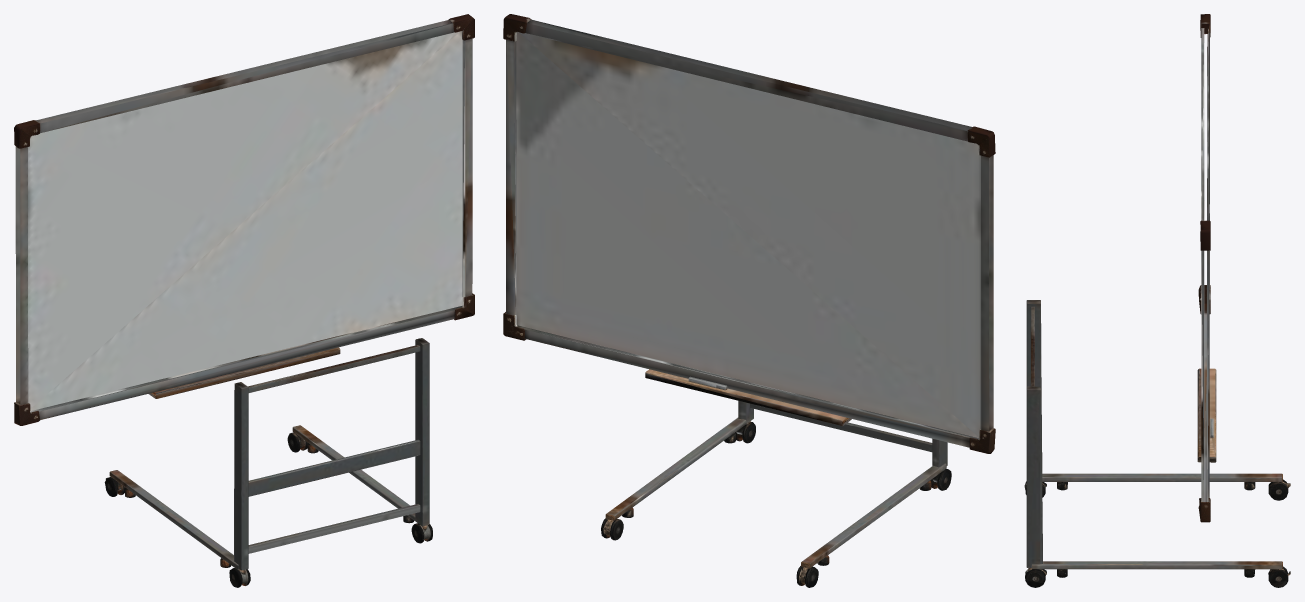
The model's file is office-whiteboard.glb.
The picture shows the model from 3 angles, left to right: view 1: azimuth 30°, elevation 25°; view 2: azimuth 150°, elevation 25°; view 3: azimuth 270°, elevation 25°; orthographic projection. The views are drawn at different scales.
Visible parts, largest first — view 1: whiteboard; view 2: whiteboard; view 3: whiteboard.
Part boxes in pixels (<box>): whiteboard: <box>14,14,474,587</box>; whiteboard: <box>503,14,995,587</box>; whiteboard: <box>1024,14,1290,587</box>.
Size of the model in its own units: 1.8 by 1.62 by 0.928.
1 material, 1 textured.
